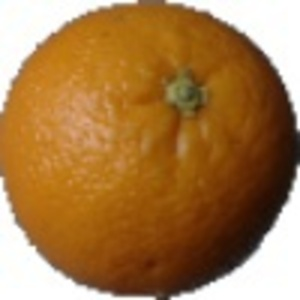laranja: (3, 4, 298, 299)
